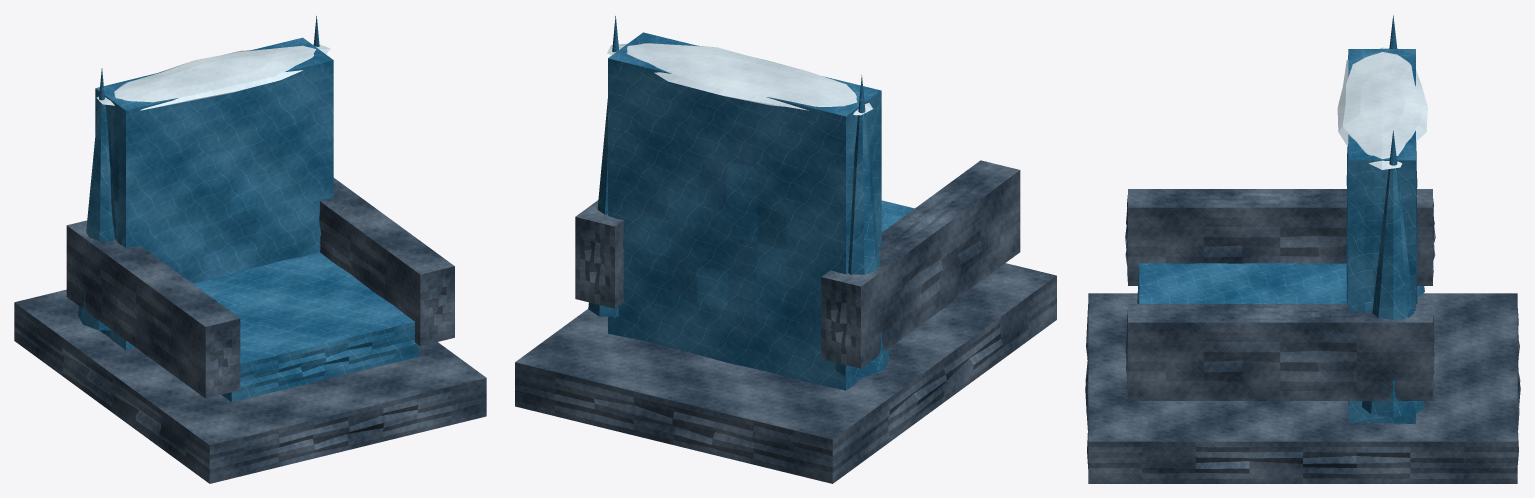
File: BossRoom_FrozenThrone.fbx
The picture shows the model from 3 angles, left to right: view 1: azimuth 30°, elevation 25°; view 2: azimuth 150°, elevation 25°; view 3: azimuth 270°, elevation 25°; orthographic projection. The views are drawn at different scales.
Visible parts, largest first — view 1: WO_BossRoom_FrozenThrone_LOD0; view 2: WO_BossRoom_FrozenThrone_LOD0; view 3: WO_BossRoom_FrozenThrone_LOD0.
Boxes of the visible parts, left/top/right/bottom form: WO_BossRoom_FrozenThrone_LOD0: left=14, top=16, right=486, bottom=483; WO_BossRoom_FrozenThrone_LOD0: left=515, top=16, right=1056, bottom=483; WO_BossRoom_FrozenThrone_LOD0: left=1085, top=15, right=1520, bottom=483.
Size of what is drawn, in the model's own units: 4.9 by 5.17 by 6.
